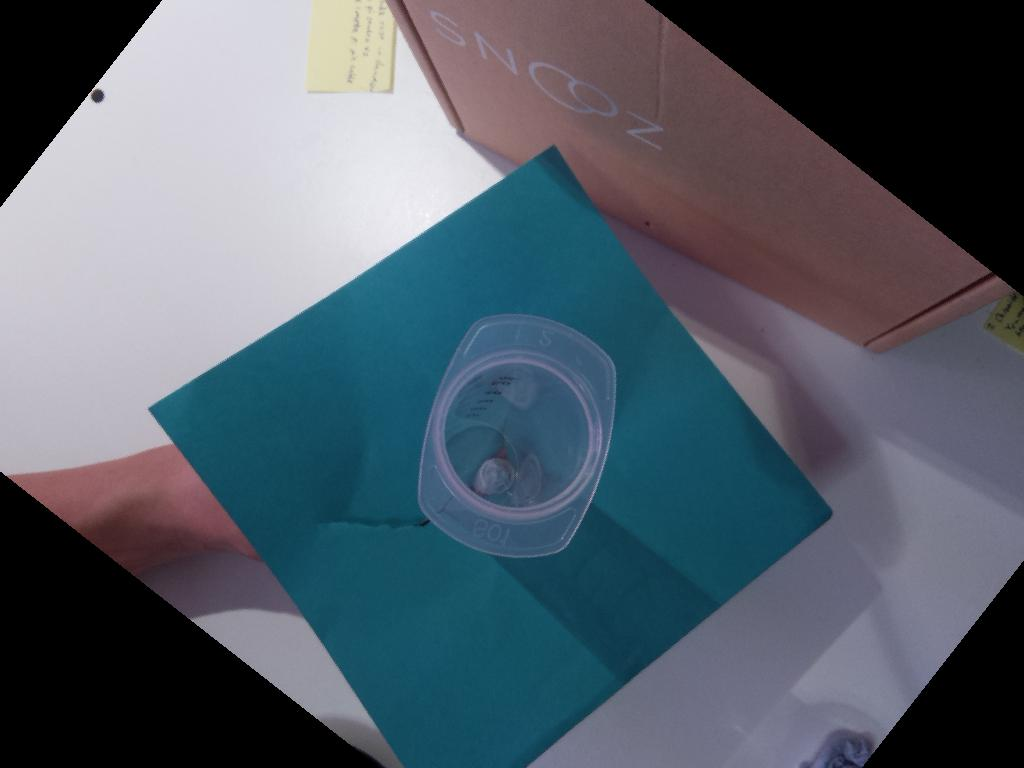clean: (414, 312, 617, 558)
